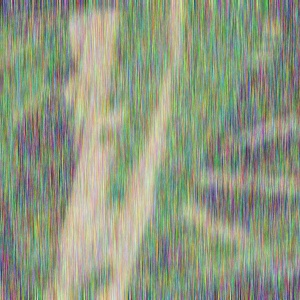Leaf_Blast: (67, 1, 234, 258)
